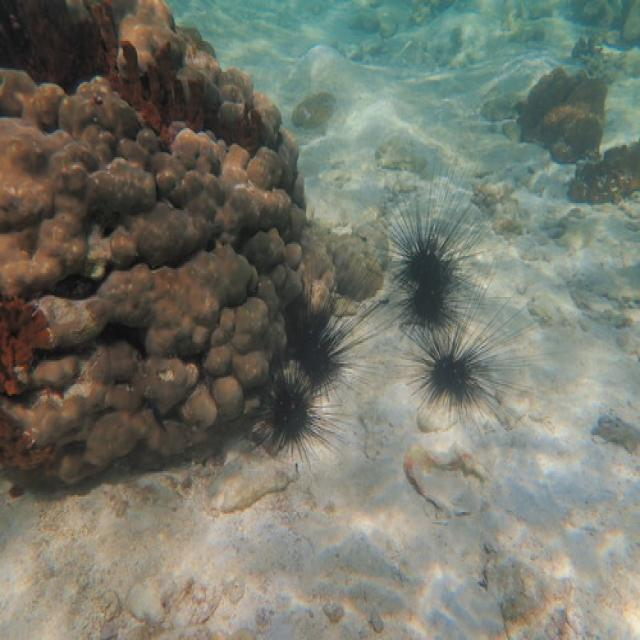Urchin: (399, 282, 536, 423), (366, 145, 486, 283), (282, 254, 384, 396), (240, 347, 340, 459), (380, 258, 494, 333)
